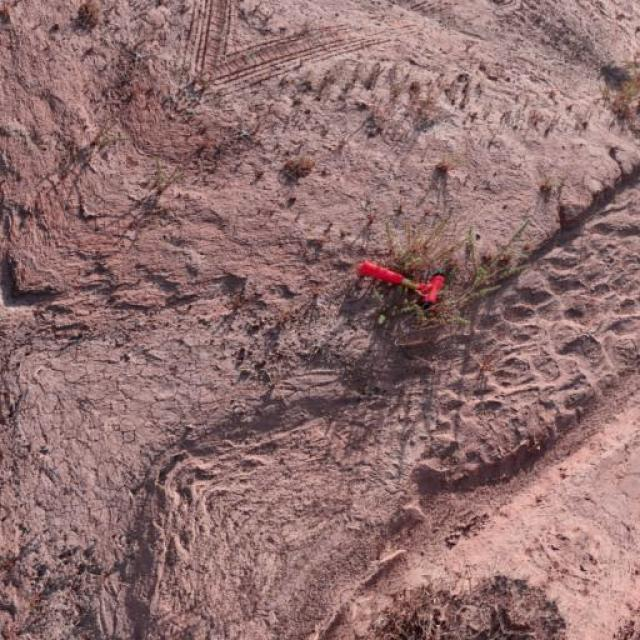mallet: (358, 257, 448, 305)
